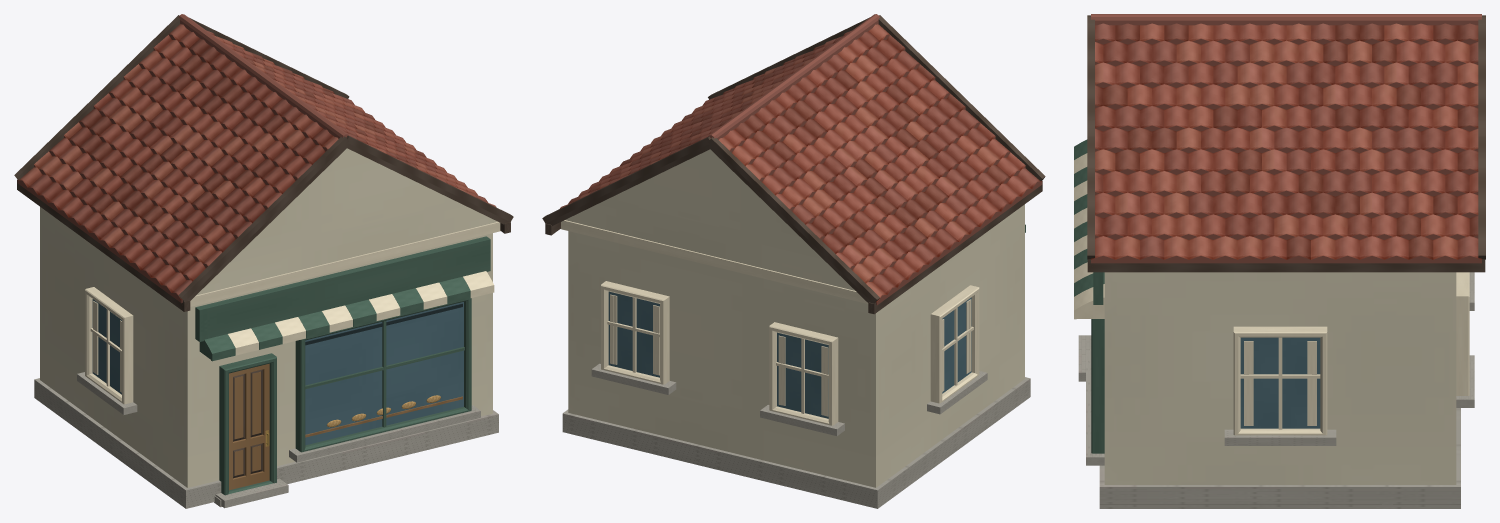
Rendered from shop.glb.
3 renders of one model, left to right at view 1: azimuth 30°, elevation 25°; view 2: azimuth 150°, elevation 25°; view 3: azimuth 270°, elevation 25°, orthographic. The views are drawn at different scales.
Parts seen in each view (by area): view 1: ShopBody; view 2: ShopBody; view 3: ShopBody.
Boxes of the visible parts, x1,y1,x2,y2 form: ShopBody: (14,14,513,508); ShopBody: (542,14,1045,508); ShopBody: (1074,14,1485,508).
Bounding box in the file's own units: 6 × 5.87 × 5.41.
Materials: 1 (1 with a texture image).
